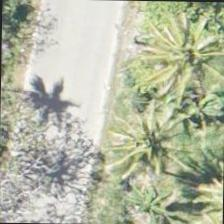Kelapa_Sawit: (104, 104, 196, 196)
